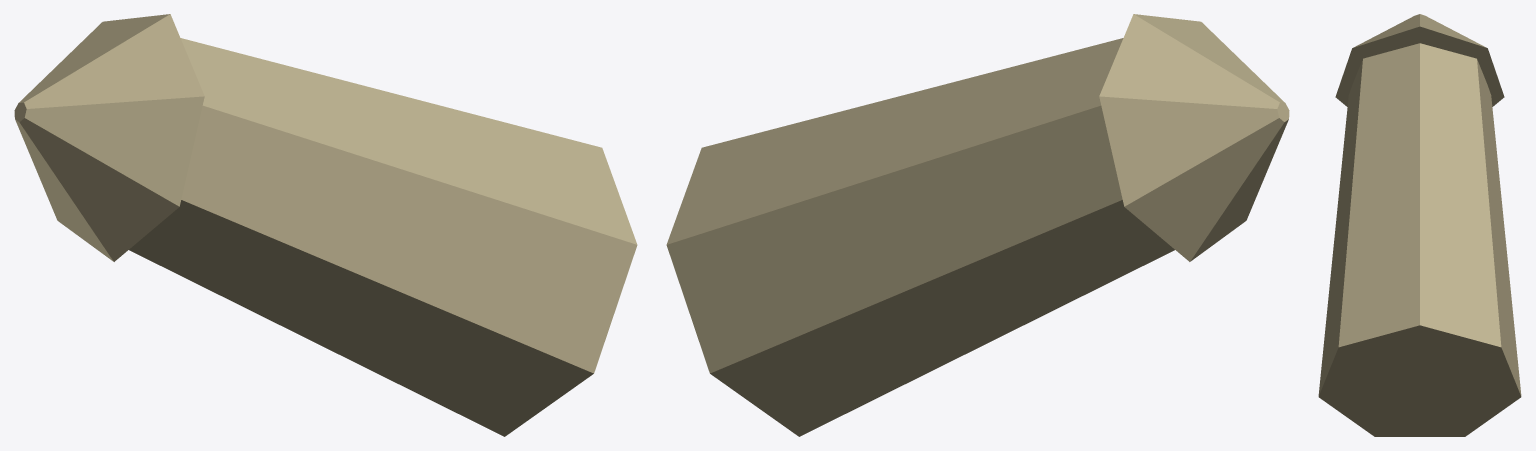
File: deer_tail.glb
The picture shows the model from 3 angles, left to right: view 1: azimuth 30°, elevation 25°; view 2: azimuth 150°, elevation 25°; view 3: azimuth 270°, elevation 25°; orthographic projection. The views are drawn at different scales.
Parts seen in each view (by area): view 1: deer_tail; view 2: deer_tail; view 3: deer_tail.
Boxes of the visible parts, <box> form: deer_tail: <box>14,14,637,436</box>; deer_tail: <box>666,14,1289,436</box>; deer_tail: <box>1318,14,1521,436</box>.
Bounding box in the file's own units: 0.388 × 0.2987 × 0.1755.
